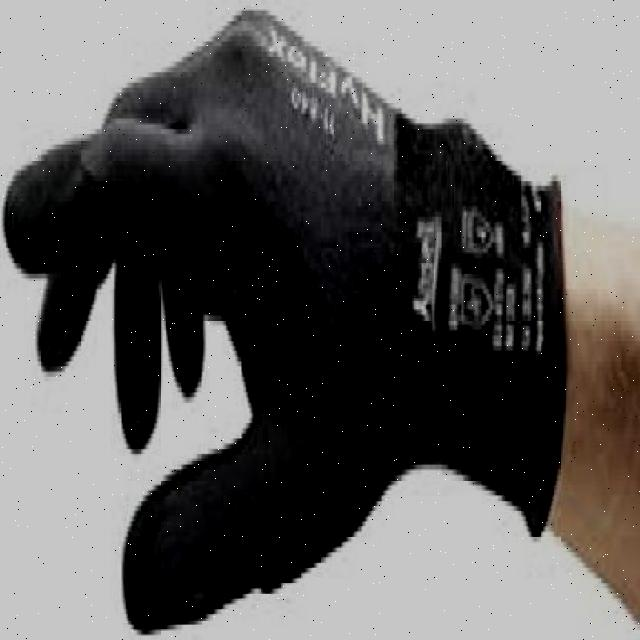Gloves: (8, 12, 570, 631)
